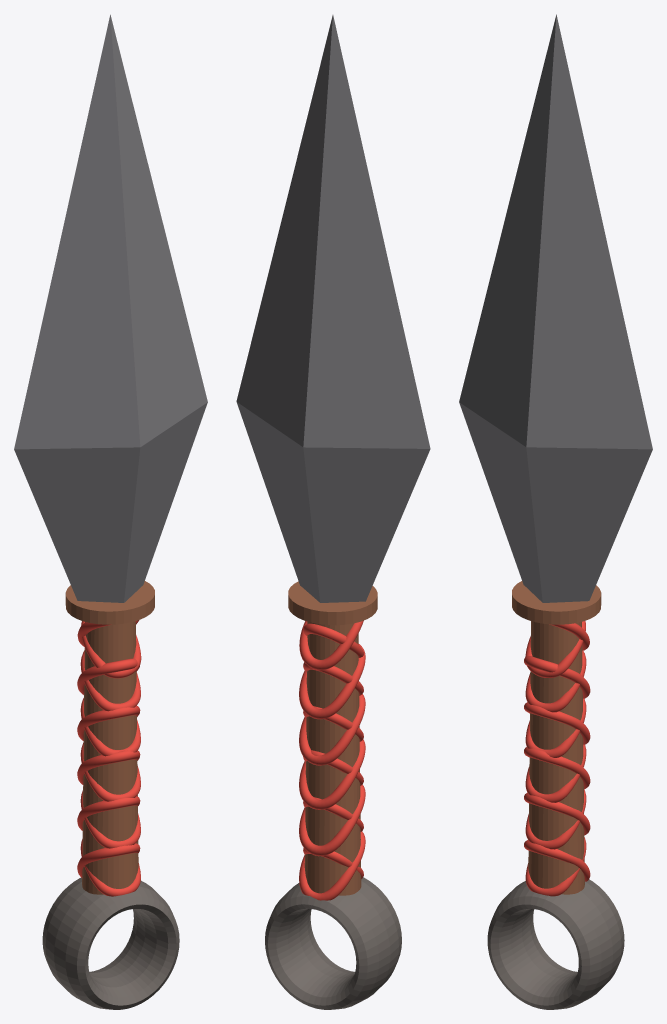
File: Kunai_1.fbx
3 views of the same model, side by side, from view 1: azimuth 30°, elevation 25°; view 2: azimuth 150°, elevation 25°; view 3: azimuth 330°, elevation 25° (orthographic).
Parts seen in each view (by area): view 1: Цилиндр, Цилиндр.001, Цилиндр.002, ОкружностьБезье.011; view 2: Цилиндр, Цилиндр.001, Цилиндр.002, ОкружностьБезье.011; view 3: Цилиндр, Цилиндр.001, Цилиндр.002, ОкружностьБезье.011.
Boxes of the visible parts, x1,y1,x2,y2 form: Цилиндр: [14, 14, 207, 602]; Цилиндр.001: [42, 877, 179, 1009]; Цилиндр.002: [65, 581, 154, 894]; ОкружностьБезье.011: [77, 620, 141, 896]; Цилиндр: [236, 15, 430, 602]; Цилиндр.001: [265, 877, 401, 1009]; Цилиндр.002: [288, 581, 377, 895]; ОкружностьБезье.011: [299, 620, 365, 900]; Цилиндр: [459, 14, 652, 602]; Цилиндр.001: [487, 879, 624, 1009]; Цилиндр.002: [512, 581, 601, 894]; ОкружностьБезье.011: [524, 621, 590, 896].
Size of the model in its own units: 1.19 by 5.8 by 0.6357.
